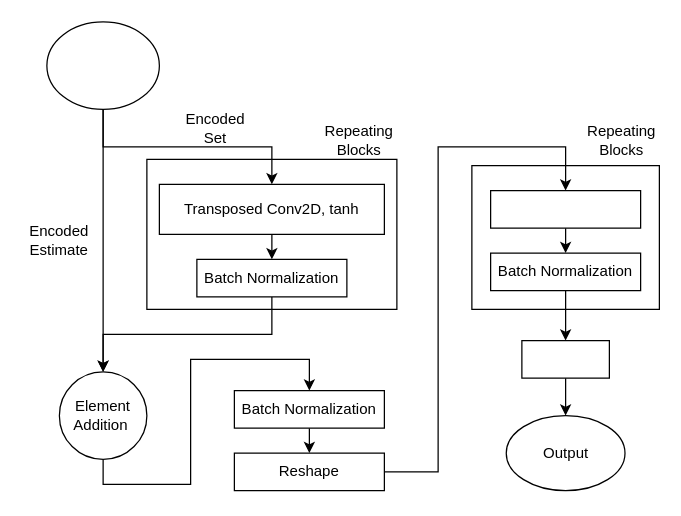
This 681x516 diagram has some shape labels left out. The centre of each missing label's shape, as x and y in pixels:
"Conv1D, tanh" belongs at (565,208).
"Inputs" belongs at (102,65).
"Squeeze" belongs at (565,358).
